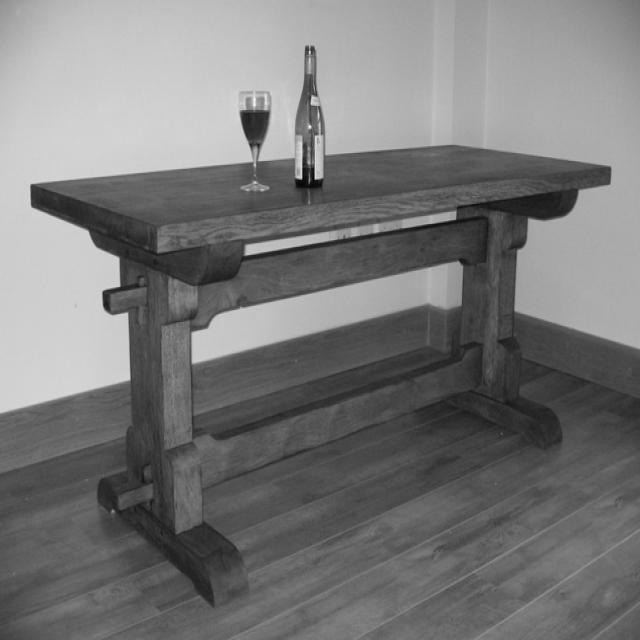table: (29, 143, 612, 611)
